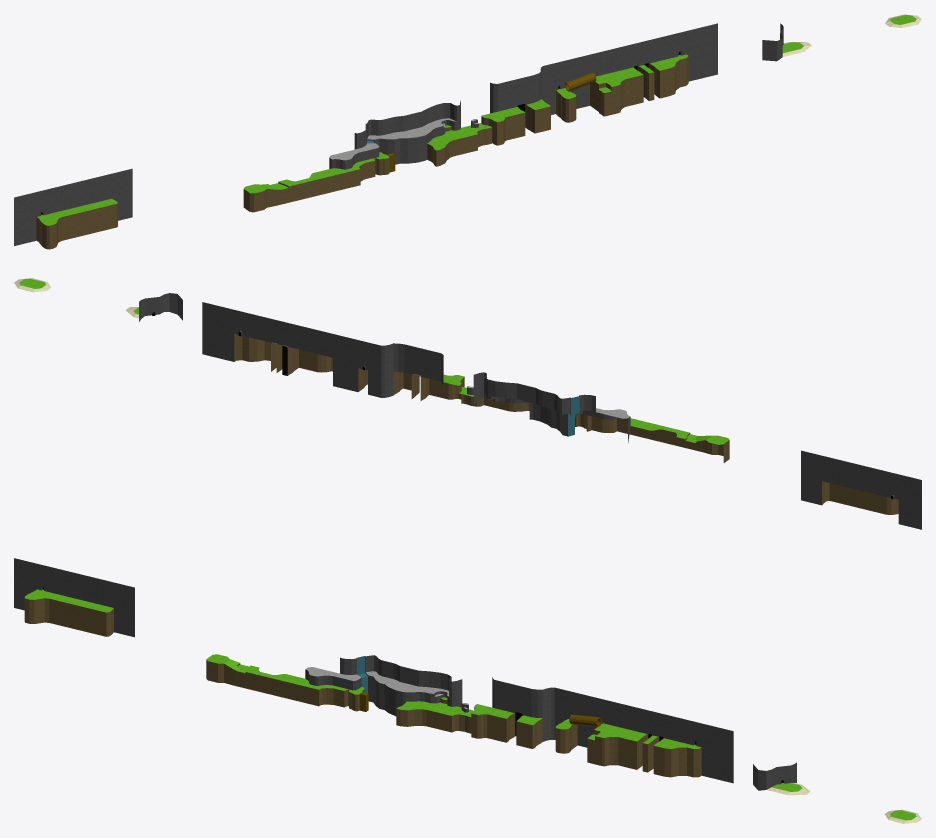
Rendered from env.obj.
3 renders of one model, top to bottom at view 1: azimuth 30°, elevation 25°; view 2: azimuth 150°, elevation 25°; view 3: azimuth 330°, elevation 25°, orthographic. The views are drawn at different scales.
Parts seen in each view (by area): view 1: swamp.003; view 2: swamp.003; view 3: swamp.003.
Part boxes in pixels (left/top/right/bottom): swamp.003: left=14, top=14, right=921, bottom=249; swamp.003: left=14, top=278, right=921, bottom=529; swamp.003: left=14, top=558, right=921, bottom=823.
Bounding box in the file's own units: 1329 × 72.5 × 67.67.
Materials: 8 (5 with a texture image).
